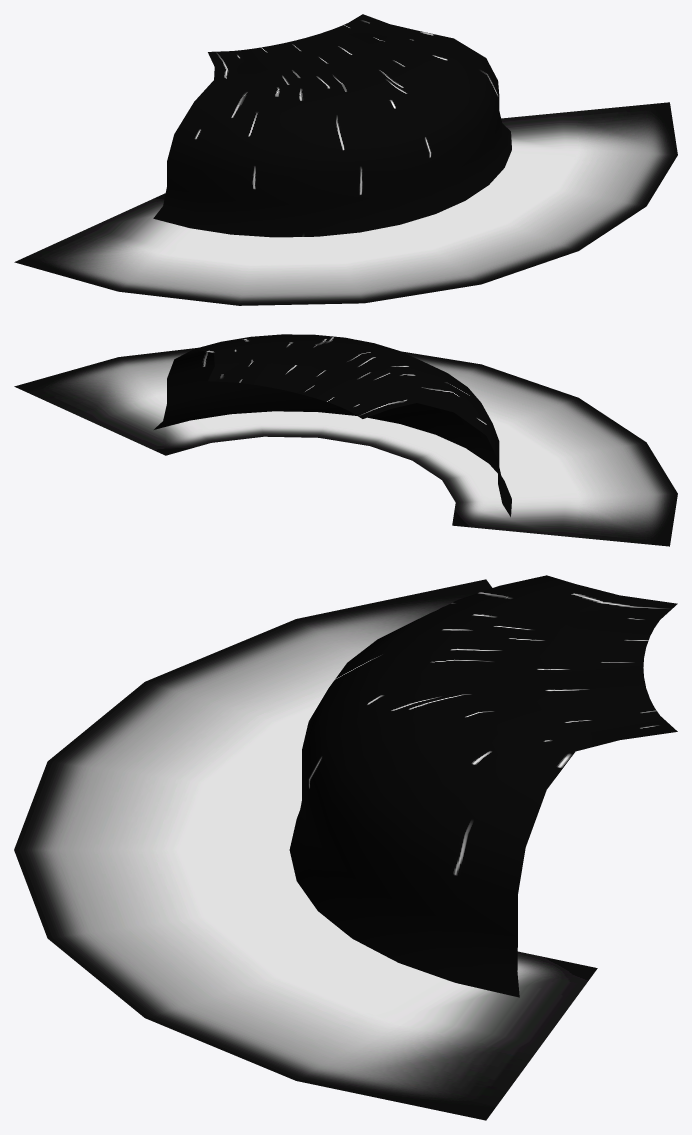
The model's file is P_Waterfall3.obj.
3 views of the same model, one above another, from view 1: azimuth 30°, elevation 25°; view 2: azimuth 150°, elevation 25°; view 3: azimuth 270°, elevation 25° (orthographic). The views are drawn at different scales.
Bounding box in the file's own units: 23.94 × 3.86 × 12.41.
